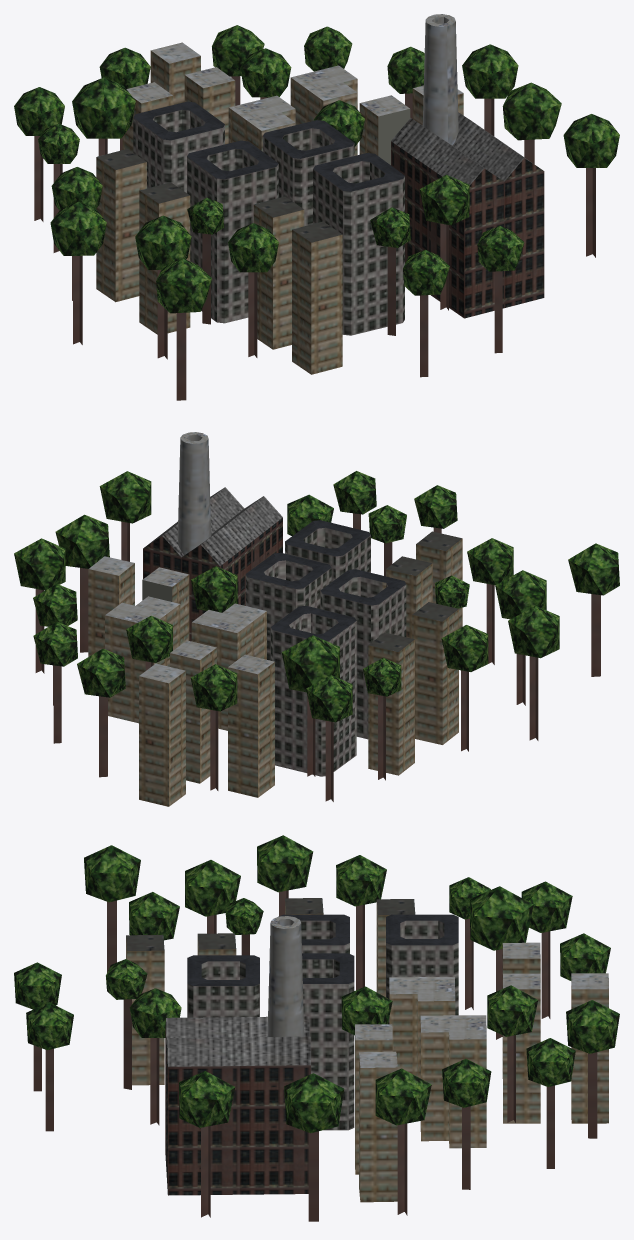
File: city_modern_0.glb
3 renders of one model, top to bottom at view 1: azimuth 30°, elevation 25°; view 2: azimuth 150°, elevation 25°; view 3: azimuth 270°, elevation 25°, orthographic. The views are drawn at different scales.
Visible parts, largest first — view 1: ModernCity_Tier1; view 2: ModernCity_Tier1; view 3: ModernCity_Tier1.
Part boxes in pixels (x1=…): ModernCity_Tier1: x1=14, y1=14, x2=619, y2=400; ModernCity_Tier1: x1=14, y1=432, x2=619, y2=806; ModernCity_Tier1: x1=14, y1=835, x2=619, y2=1221.
Bounding box in the file's own units: 3.08 × 1.38 × 3.03.
1 material, 1 textured.
